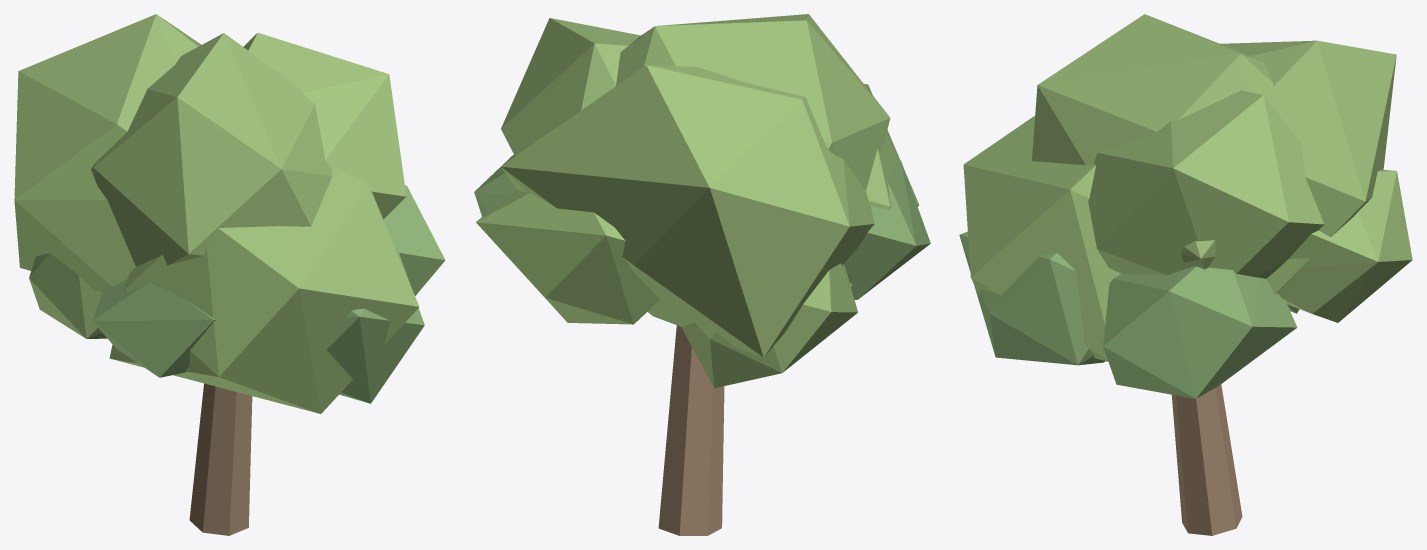
Rendered from tree_gen1.glb.
3 renders of one model, left to right at view 1: azimuth 30°, elevation 25°; view 2: azimuth 150°, elevation 25°; view 3: azimuth 270°, elevation 25°, orthographic. The views are drawn at different scales.
Parts seen in each view (by area): view 1: hull; view 2: hull; view 3: hull.
Part boxes in pixels (x1,y1,x2,y2): hull: (14, 14, 445, 535); hull: (474, 14, 930, 535); hull: (959, 14, 1412, 535).
Size of the model in its own units: 5.04 by 6.13 by 5.24.
